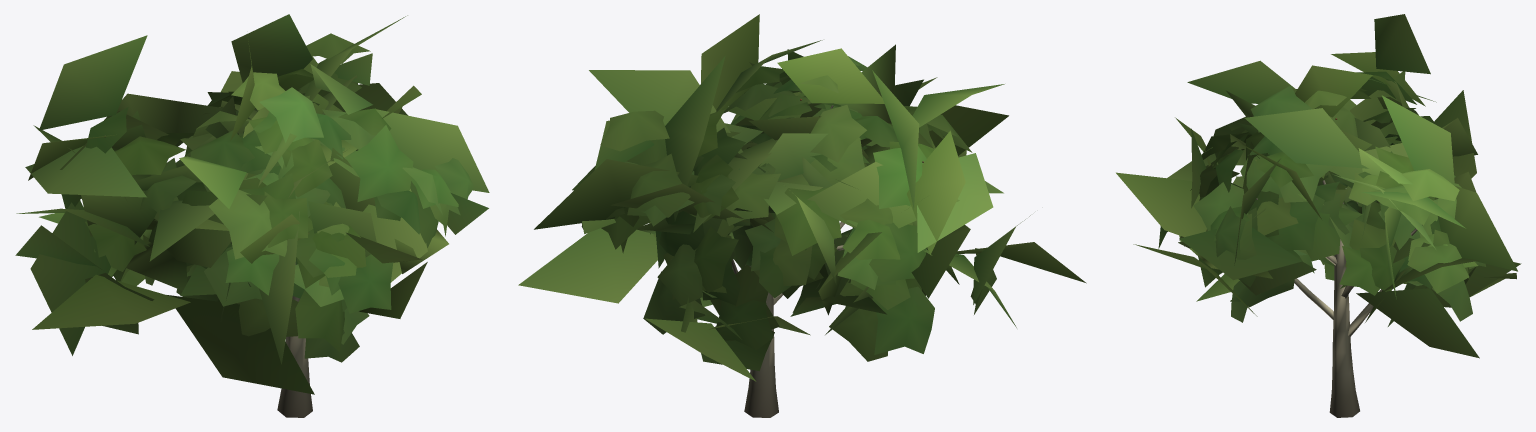
The picture shows the model from 3 angles, left to right: view 1: azimuth 30°, elevation 25°; view 2: azimuth 150°, elevation 25°; view 3: azimuth 270°, elevation 25°; orthographic projection. The views are drawn at different scales.
Bounding box in the file's own units: 16.98 × 13.68 × 14.85.
